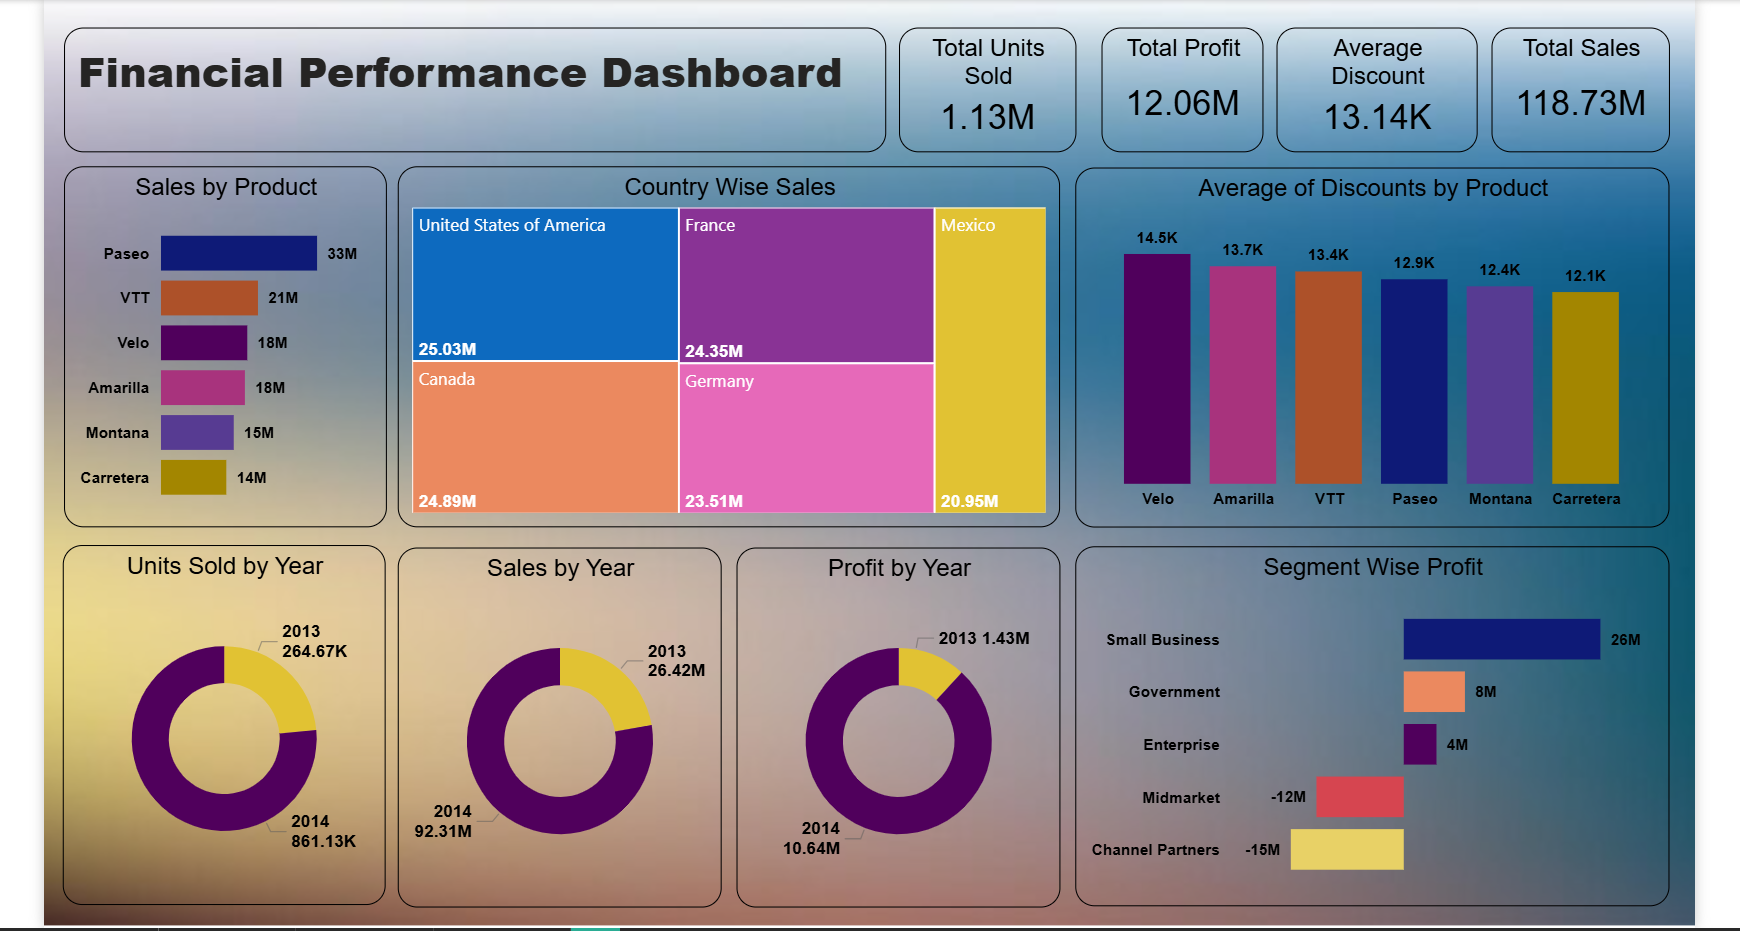

Layout of this report page (visuals, bound fields, positions):
{"tool":"powerbi","page":{"name":"Dashboard_1","canvas":[1280,720],"ordinal":0},"visuals":[{"type":"clusteredBarChart","title":" Sales by Product","fields":{"Category":["Cleaned_Data.Product"],"Y":["Sum(Cleaned_Data. Sales)"]},"box":[15.1,129.1,250,280.2],"z":0},{"type":"clusteredBarChart","title":"Segment Wise Profit","fields":{"Category":["Cleaned_Data.Segment"],"Y":["Sum(Cleaned_Data.Profit)"]},"box":[800,423.3,460.5,279.1],"z":1000},{"type":"treemap","title":"Country Wise Sales","fields":{"Group":["Cleaned_Data.Country"],"Values":["Sum(Cleaned_Data. Sales)"]},"box":[274.4,129.1,514,280.2],"z":2000},{"type":"donutChart","title":"  Sales by Year","fields":{"Y":["Sum(Cleaned_Data. Sales)"],"Category":["Cleaned_Data.Date.Variation.Date Hierarchy.Year"]},"box":[274.4,424.4,251.2,279.1],"z":3000},{"type":"donutChart","title":"  Profit by Year","fields":{"Y":["Sum(Cleaned_Data.Profit)"],"Category":["Cleaned_Data.Date.Variation.Date Hierarchy.Year"]},"box":[537.2,424.4,251.2,279.1],"z":4000},{"type":"clusteredColumnChart","fields":{"Category":["Cleaned_Data.Product"],"Y":["Avg(Cleaned_Data.Discounts)"]},"box":[800,130.2,460.5,279.1],"z":5000},{"type":"donutChart","title":" Units Sold by Year","fields":{"Category":["Cleaned_Data.Date.Variation.Date Hierarchy.Year","Cleaned_Data.Date.Variation.Date Hierarchy.Quarter","Cleaned_Data.Date.Variation.Date Hierarchy.Month","Cleaned_Data.Date.Variation.Date Hierarchy.Day"],"Y":["Sum(Cleaned_Data.Units Sold)"]},"box":[15,423,250,279],"z":6000},{"type":"card","title":"Total Sales","fields":{"Values":["Sum(Cleaned_Data. Sales)"]},"box":[1122.1,20.9,138.4,96.5],"z":7000},{"type":"card","title":"Total Profit","fields":{"Values":["Sum(Cleaned_Data.Profit)"]},"box":[819.8,20.9,125.6,96.5],"z":8000},{"type":"card","title":"Total Units Sold","fields":{"Values":["Sum(Cleaned_Data.Units Sold)"]},"box":[662.8,20.9,137.2,96.5],"z":9000},{"type":"card","title":"Average Discount","fields":{"Values":["Avg(Cleaned_Data.Discounts)"]},"box":[955.8,20.9,155.8,96.5],"z":10000},{"type":"textbox","box":[15.1,20.9,637.2,96.5],"z":11000}]}

Visuals, with their boxes on the page's 1280x720 design canvas (x1, y1, x2, y2). These are canvas units, not pixel positions in the 1740x931 screenshot, which may show the page scaled, cropped or inside an application window:
" Sales by Product" clusteredBarChart: region(15, 129, 265, 409)
"Segment Wise Profit" clusteredBarChart: region(800, 423, 1260, 702)
"Country Wise Sales" treemap: region(274, 129, 788, 409)
"  Sales by Year" donutChart: region(274, 424, 526, 704)
"  Profit by Year" donutChart: region(537, 424, 788, 704)
clusteredColumnChart - Cleaned_Data.Product x Avg(Cleaned_Data.Discounts): region(800, 130, 1260, 409)
" Units Sold by Year" donutChart: region(15, 423, 265, 702)
"Total Sales" card: region(1122, 21, 1260, 117)
"Total Profit" card: region(820, 21, 945, 117)
"Total Units Sold" card: region(663, 21, 800, 117)
"Average Discount" card: region(956, 21, 1112, 117)
textbox: region(15, 21, 652, 117)
